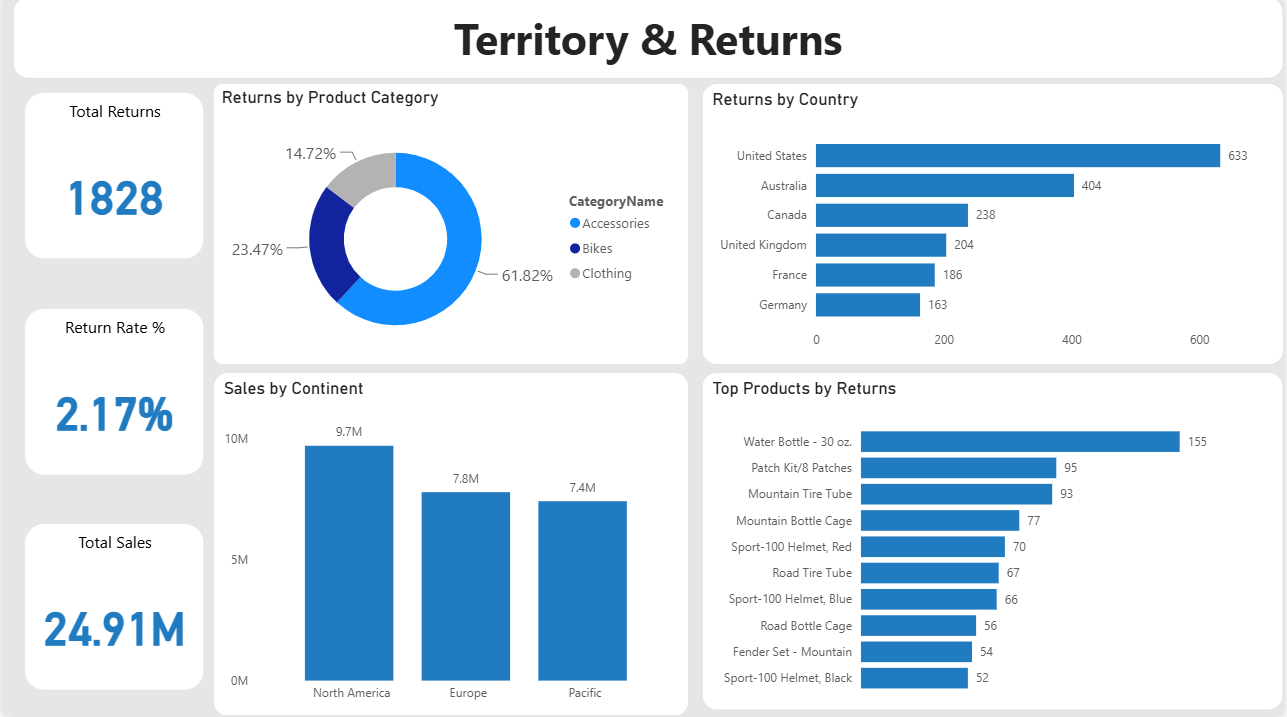

This screenshot's page, from the dashboard's own definition file:
{"tool":"powerbi","page":{"name":"Territory & Returns","canvas":[1280,720],"ordinal":3},"visuals":[{"type":"textbox","box":[9.8,0,1270.5,81.9],"z":0},{"type":"card","title":"Total Sales","fields":{"Values":["Sales.Total Sales"]},"box":[18.3,525.8,195.7,150.4],"z":1000},{"type":"card","title":"Return Rate %","fields":{"Values":["Sales.Return Rate %"]},"box":[26.9,298.4,178.5,179.8],"z":2000},{"type":"card","title":"Total Returns","fields":{"Values":["Sales.Total Returns"]},"box":[18.3,95.4,178.5,167.5],"z":3000},{"type":"clusteredColumnChart","title":"Sales by Continent","fields":{"Category":["Territory Lookup.Continent"],"Y":["Sales.Total Sales"]},"box":[222.6,375.4,463.5,344.8],"z":4000},{"type":"clusteredBarChart","title":"Returns by Country","fields":{"Category":["Territory Lookup.Country"],"Y":["Sales.Total Returns"]},"box":[698.2,86.8,582.1,281.3],"z":5000},{"type":"clusteredBarChart","title":"Top Products by Returns","fields":{"Category":["Product Lookup.ProductName"],"Y":["Sales.Total Returns"]},"box":[698.2,375.4,582.1,338.7],"z":6000},{"type":"donutChart","title":"Returns by Product Category","fields":{"Y":["Sales.Total Returns"],"Category":["Product Categories Lookup.CategoryName"]},"box":[222.6,86.8,463.5,281.3],"z":7000}]}

Visuals, with their boxes in screenshot pixels (x1, y1, x2, y2), scaled from the page's 1280x720 canvas onto the 1287x717 screenshot:
textbox: l=10, t=0, r=1286, b=82
"Total Sales" card: l=18, t=524, r=215, b=673
"Return Rate %" card: l=27, t=297, r=207, b=476
"Total Returns" card: l=18, t=95, r=198, b=262
"Sales by Continent" clusteredColumnChart: l=224, t=374, r=690, b=716
"Returns by Country" clusteredBarChart: l=702, t=86, r=1286, b=367
"Top Products by Returns" clusteredBarChart: l=702, t=374, r=1286, b=711
"Returns by Product Category" donutChart: l=224, t=86, r=690, b=367
